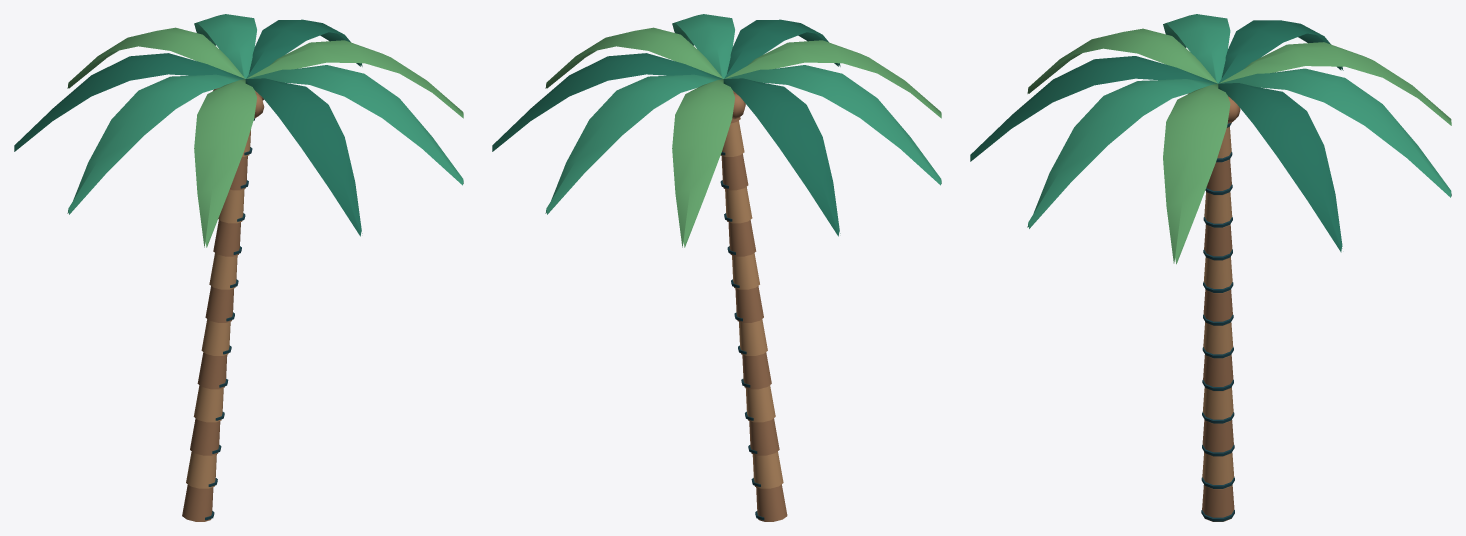
File: mainsail-palm.glb
The picture shows the model from 3 angles, left to right: view 1: azimuth 30°, elevation 25°; view 2: azimuth 150°, elevation 25°; view 3: azimuth 270°, elevation 25°; orthographic projection. The views are drawn at different scales.
Size of the model in its own units: 5.91 by 6.41 by 5.82.
